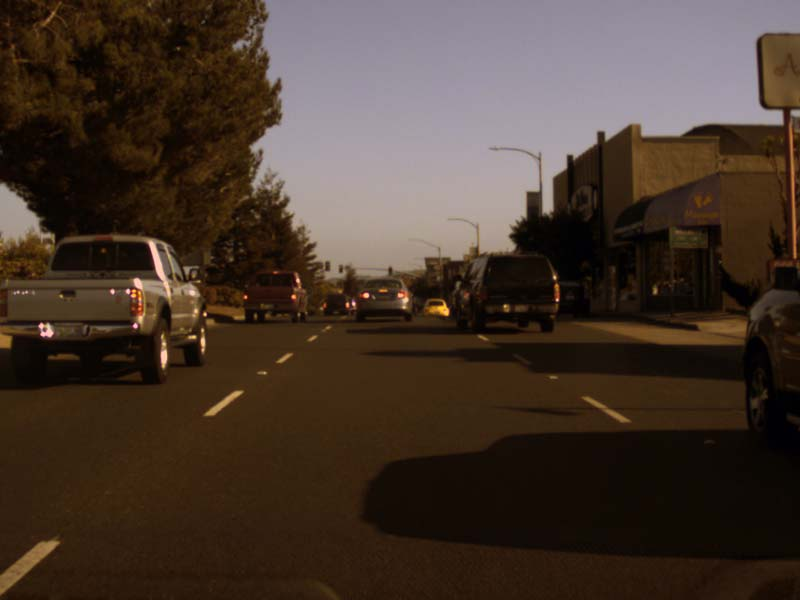Green: (388, 266, 392, 274)
Red: (338, 263, 343, 274)
